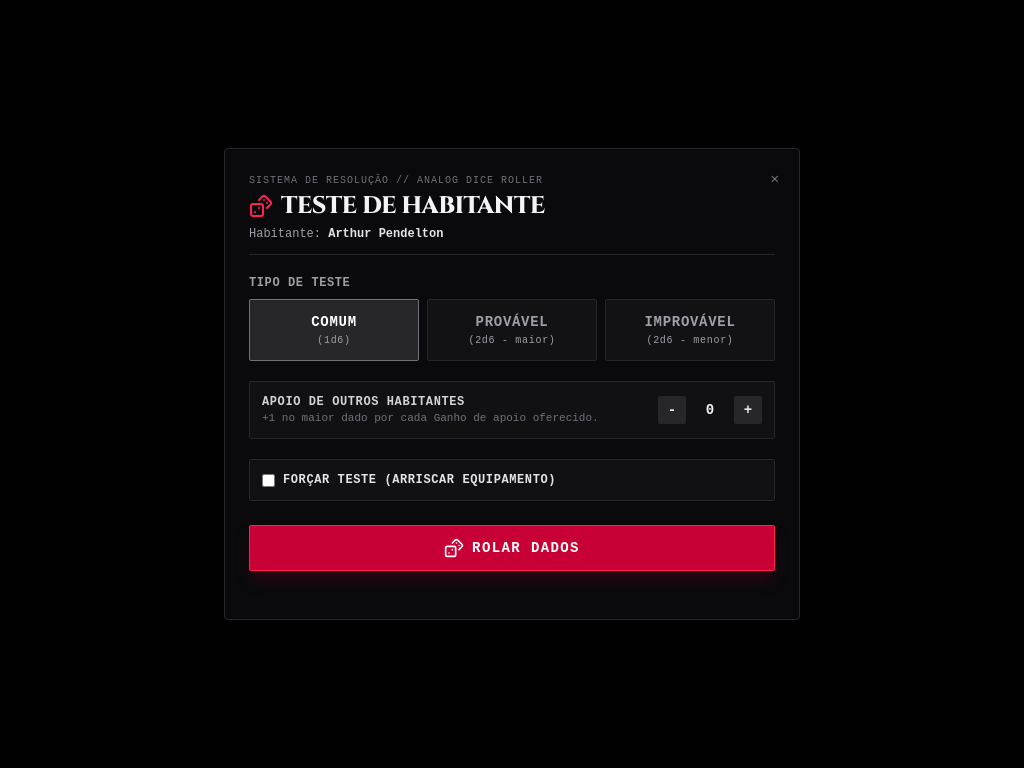
MissingDiceRollerModal Component › permite citar frase do registro no teste provável para justificar familiaridade
This screenshot has width=1024, height=768.
Seleciona teste provável
Click the button with test id "btn-teste-provavel" at (512, 330), box [427,299,597,361]
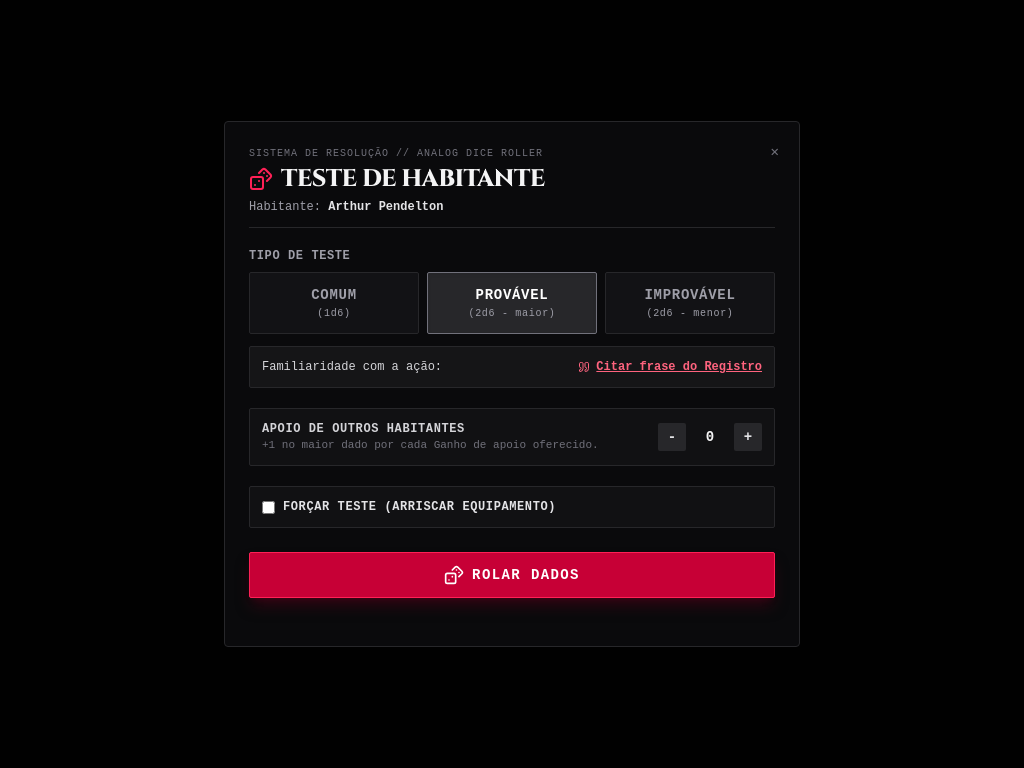
Clica para abrir lista de frases
Click the button with test id "btn-citar-frase" at (670, 367), box [578,359,762,375]
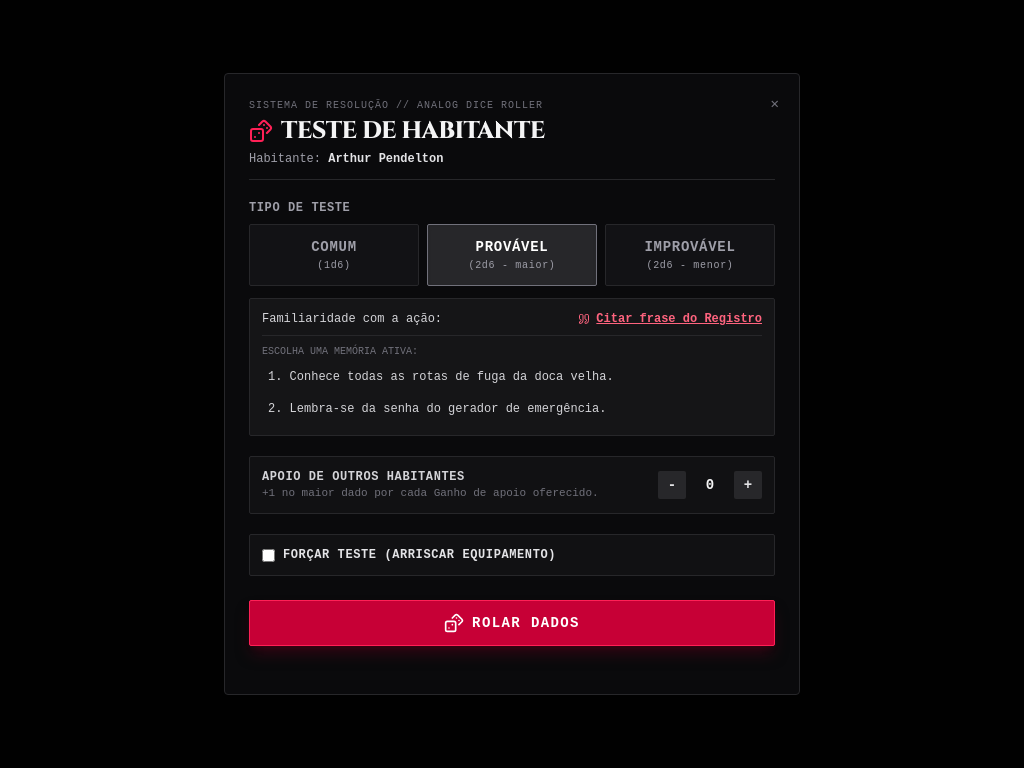
Clica na opção da frase 1
Click the button with test id "opcao-frase-1" at (512, 377), box [262,363,762,391]
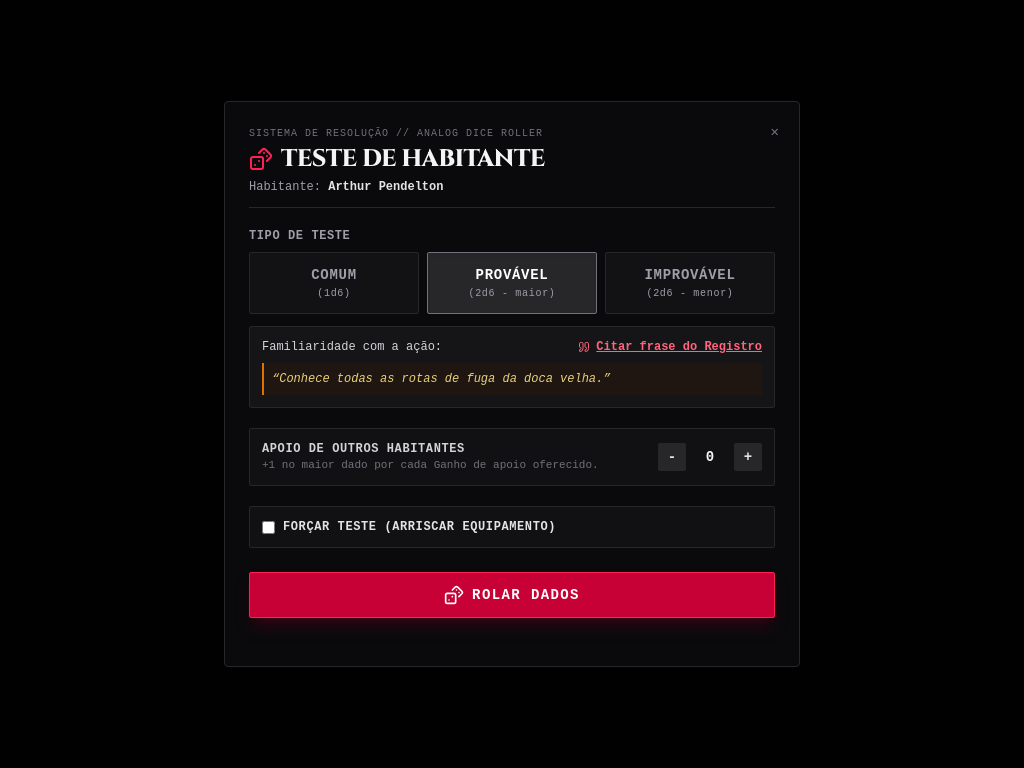
Check: the text with test id "citacao-selecionada" shows "Conhece todas as rotas de fuga da doca velha.", box [279,372,603,386]
